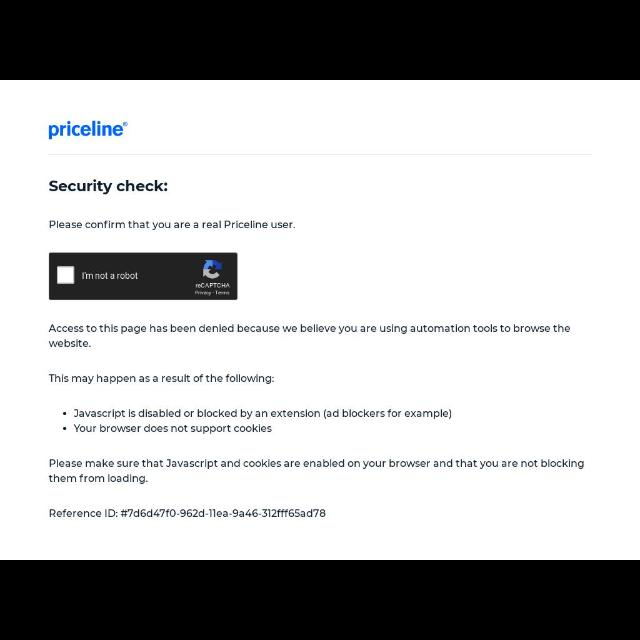checkbox: (57, 266, 75, 284)
image: (49, 121, 128, 139), (202, 260, 222, 280)
text: (50, 457, 584, 483), (48, 324, 570, 348), (73, 407, 453, 421), (48, 372, 276, 388), (50, 218, 296, 232), (50, 509, 326, 519), (72, 424, 272, 434), (49, 179, 169, 193), (82, 270, 138, 280), (196, 282, 232, 294)
